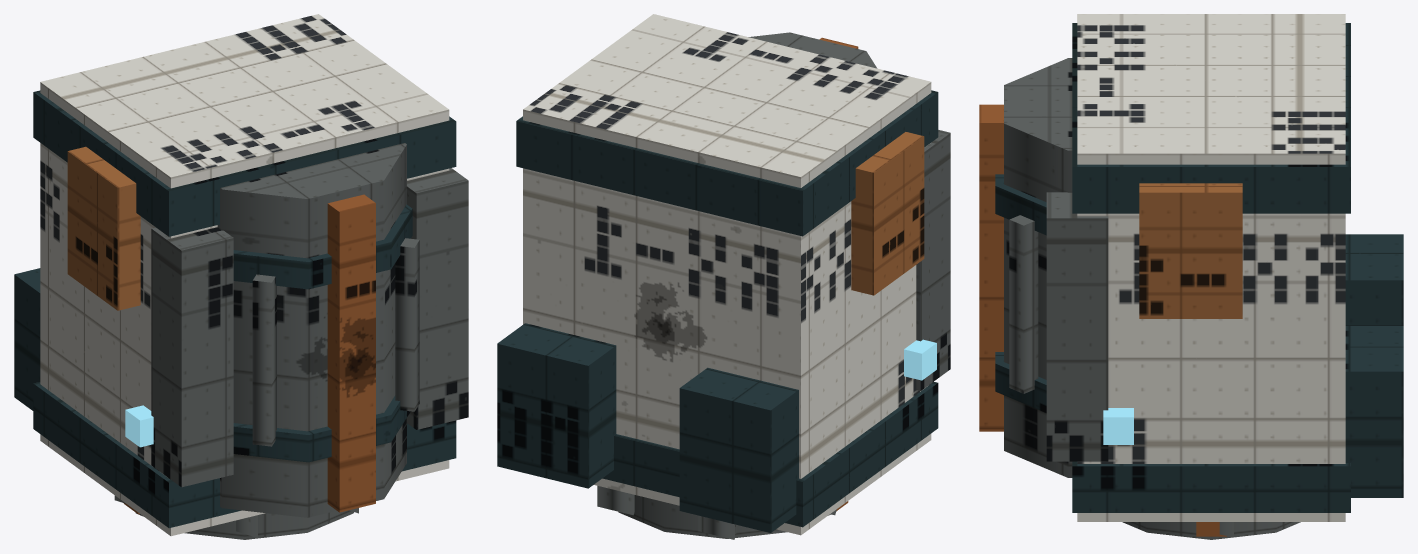
File: section_reactor.glb
3 renders of one model, left to right at view 1: azimuth 30°, elevation 25°; view 2: azimuth 150°, elevation 25°; view 3: azimuth 270°, elevation 25°, orthographic. The views are drawn at different scales.
Parts seen in each view (by area): view 1: merged-646a6c, merged-ededea, merged-263c43, merged-a56233, merged-ae7040, merged-a3e9ff; view 2: merged-ededea, merged-263c43, merged-646a6c, merged-ae7040, merged-a3e9ff; view 3: merged-ededea, merged-263c43, merged-646a6c, merged-ae7040, merged-a56233, merged-a3e9ff.
Boxes of the visible parts, x1,y1,x2,y2 form: merged-646a6c: [114, 143, 468, 539]; merged-ededea: [40, 14, 449, 536]; merged-263c43: [14, 90, 456, 528]; merged-a56233: [123, 194, 375, 514]; merged-ae7040: [67, 146, 140, 310]; merged-a3e9ff: [125, 405, 153, 447]; merged-ededea: [523, 14, 931, 535]; merged-263c43: [497, 90, 938, 532]; merged-646a6c: [597, 32, 950, 539]; merged-ae7040: [851, 132, 924, 295]; merged-a3e9ff: [904, 339, 936, 380]; merged-ededea: [1077, 14, 1345, 521]; merged-263c43: [995, 23, 1403, 512]; merged-646a6c: [1004, 58, 1300, 539]; merged-ae7040: [1139, 183, 1242, 318]; merged-a56233: [979, 104, 1226, 536]; merged-a3e9ff: [1103, 408, 1133, 444].
Bounding box in the file's own units: 3.73 × 4.3 × 4.11.
Materials: 6 (5 with a texture image).
